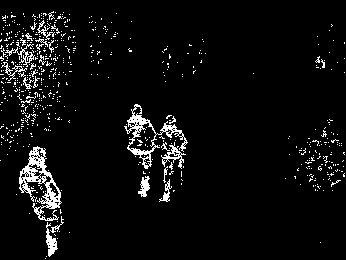person: (18, 147, 65, 257), (122, 103, 157, 198), (152, 113, 189, 202)
